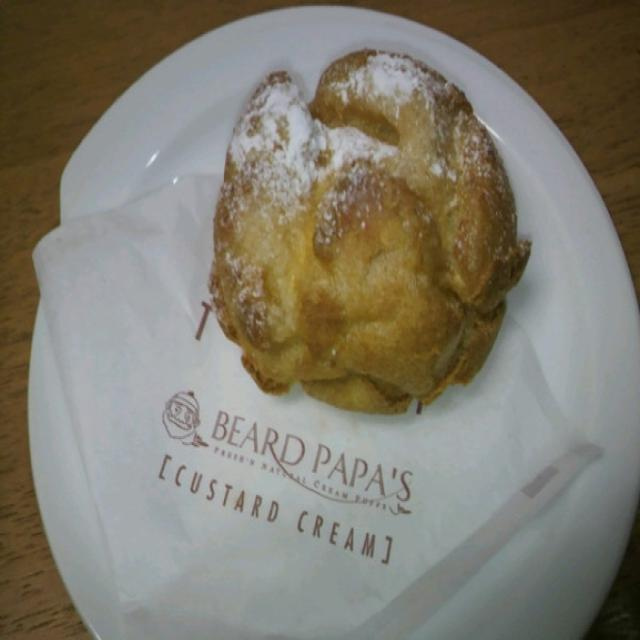炸货点心: (25, 0, 636, 634)
蛋糕甜品: (25, 0, 636, 634)
